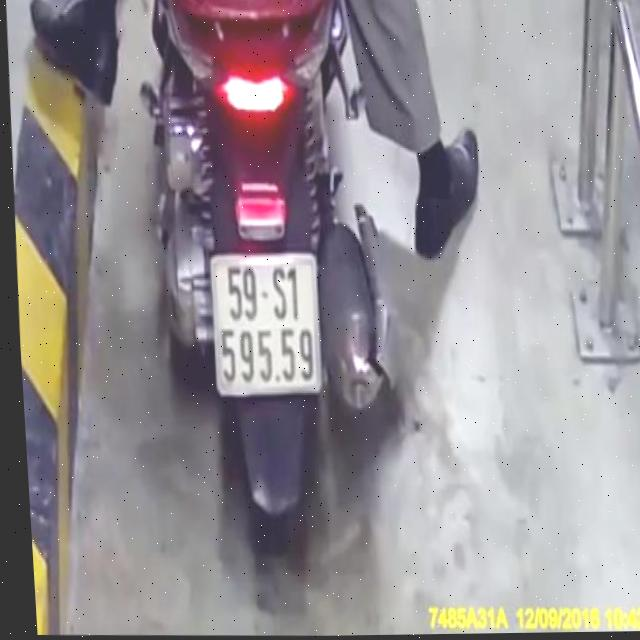motorcycle: (111, 0, 428, 569)
plate: (199, 247, 332, 401)
